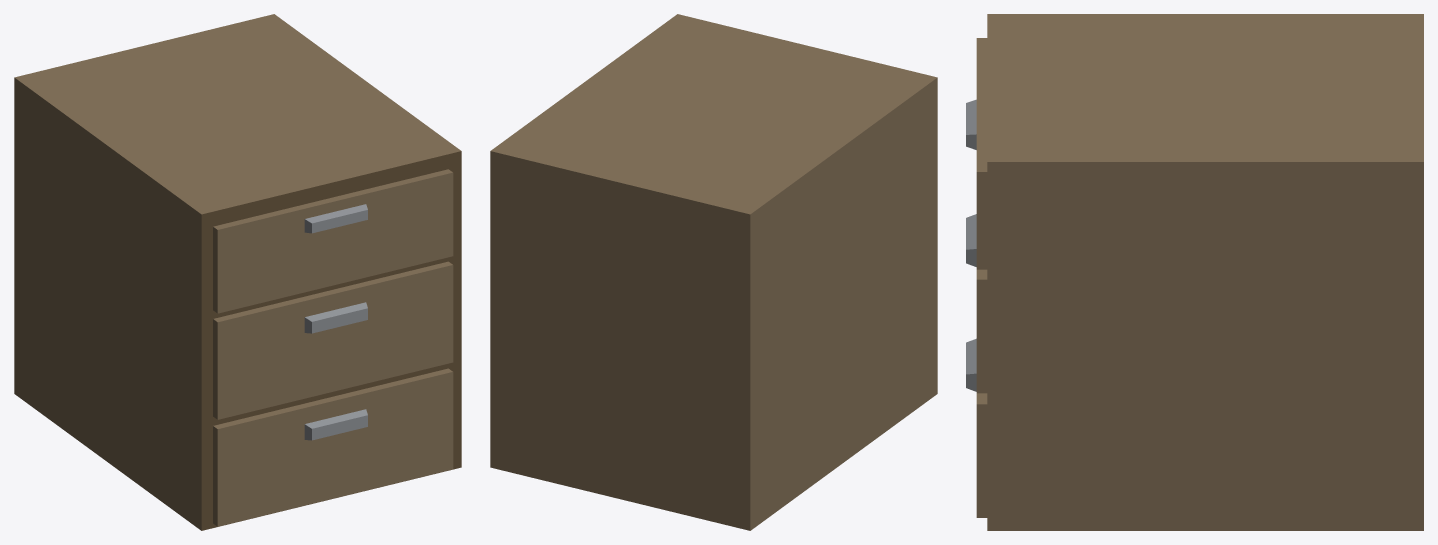
Rendered from Prop_Drawers_01.glb.
The picture shows the model from 3 angles, left to right: view 1: azimuth 30°, elevation 25°; view 2: azimuth 150°, elevation 25°; view 3: azimuth 270°, elevation 25°; orthographic projection. The views are drawn at different scales.
Visible parts, largest first — view 1: SM_Prop_Drawers_01; view 2: SM_Prop_Drawers_01; view 3: SM_Prop_Drawers_01.
Boxes of the visible parts, box(x1,y1,x2,y2) form: SM_Prop_Drawers_01: box(14, 14, 461, 530); SM_Prop_Drawers_01: box(490, 14, 937, 530); SM_Prop_Drawers_01: box(966, 14, 1423, 530).
Size of the model in its own units: 0.6506 by 0.7568 by 0.851.
1 material, 1 textured.
